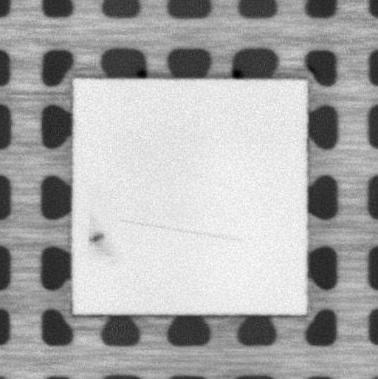DIE_CRACK: (117, 217, 241, 243)
